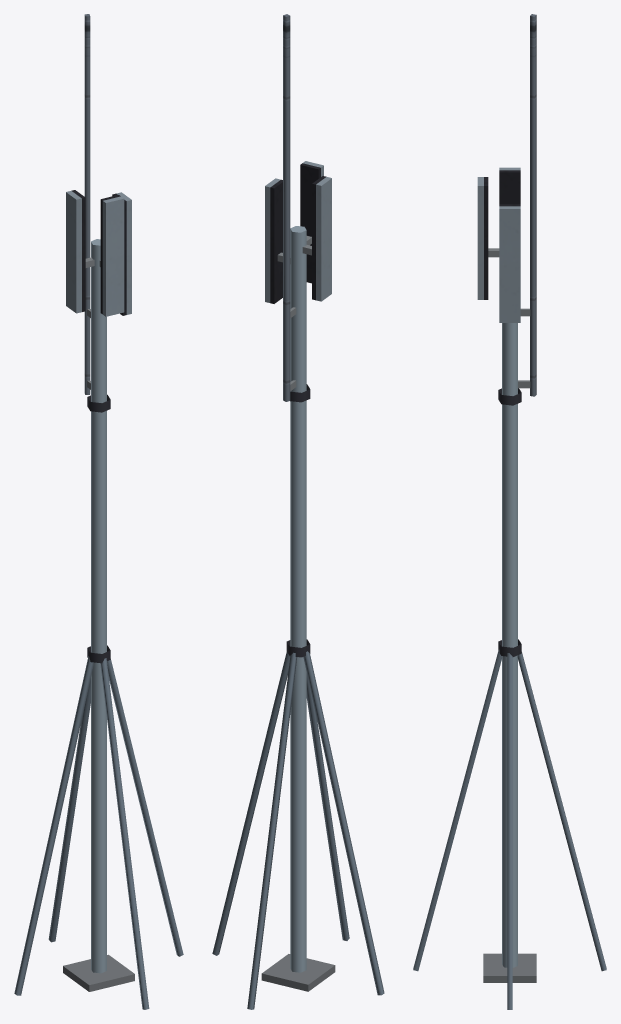
File: Mast2_LOD1.fbx
3 views of the same model, side by side, from view 1: azimuth 30°, elevation 25°; view 2: azimuth 150°, elevation 25°; view 3: azimuth 270°, elevation 25° (orthographic).
Visible parts, largest first — view 1: polySurface1342; view 2: polySurface1342; view 3: polySurface1342.
Boxes of the visible parts, left/top/right/bottom form: polySurface1342: left=14, top=14, right=183, bottom=1009; polySurface1342: left=212, top=14, right=384, bottom=1009; polySurface1342: left=413, top=14, right=606, bottom=1009.
Bounding box in the file's own units: 206 × 1124 × 206.
